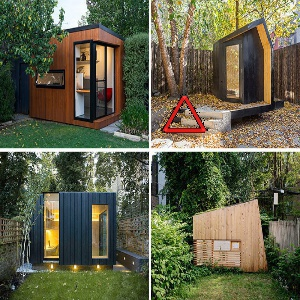triangle: (158, 90, 208, 136)
